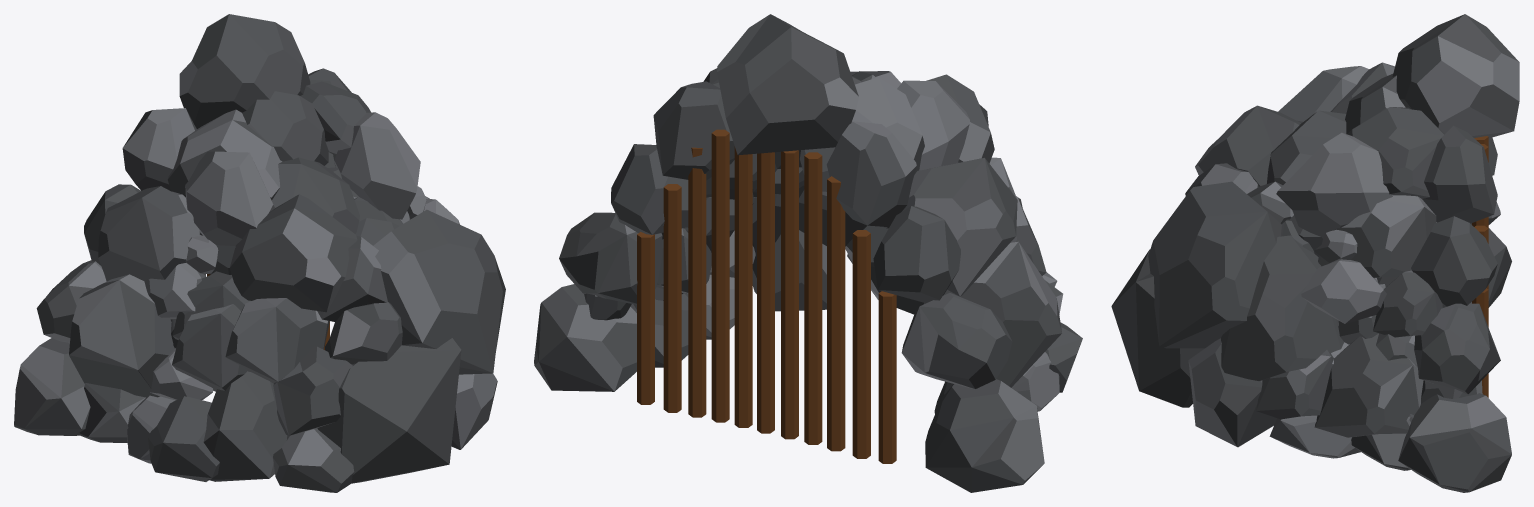
File: CloseCave.fbx
3 views of the same model, side by side, from view 1: azimuth 30°, elevation 25°; view 2: azimuth 150°, elevation 25°; view 3: azimuth 270°, elevation 25° (orthographic). The views are drawn at different scales.
Visible parts, largest first — view 1: Icosphere.001; view 2: Icosphere.001; view 3: Icosphere.001.
Part boxes in pixels (x1,y1,x2,y2): Icosphere.001: [14, 14, 505, 492]; Icosphere.001: [534, 14, 1082, 492]; Icosphere.001: [1111, 14, 1519, 492].
Bounding box in the file's own units: 2967 × 2321 × 2297.
